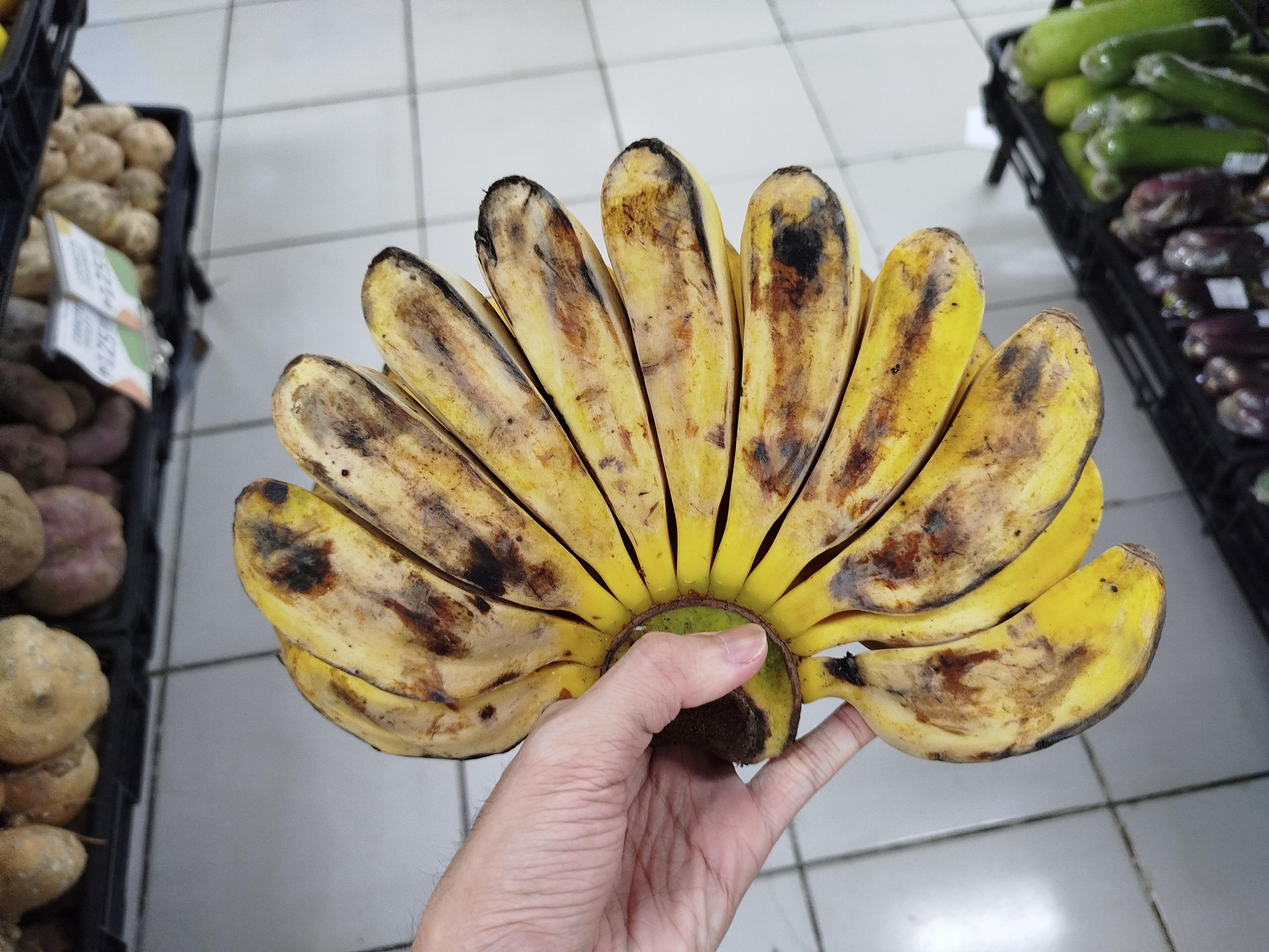ripe: (233, 138, 1165, 761)
